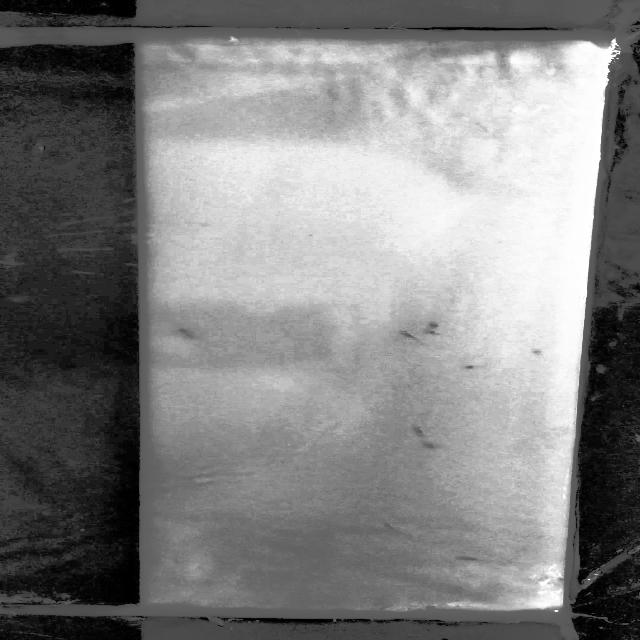shrimp: (386, 328, 417, 343), (454, 551, 476, 564), (374, 519, 394, 533), (423, 318, 444, 330), (458, 361, 483, 371), (406, 426, 432, 434), (422, 331, 448, 336)
